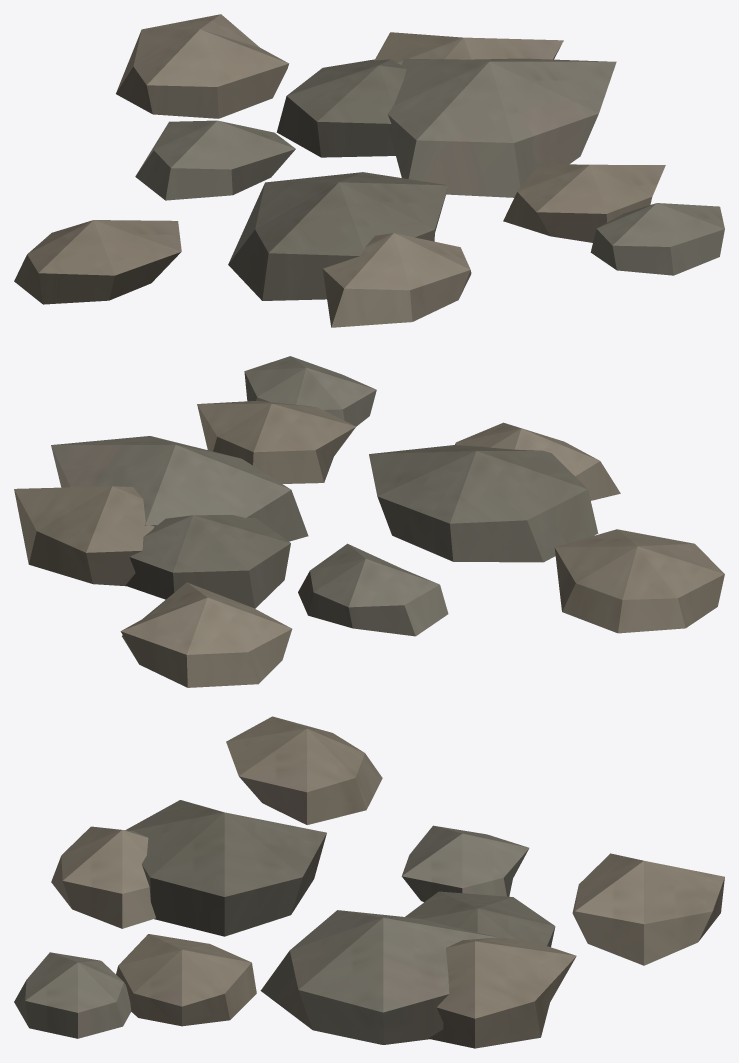
File: pebbles_01.glb
3 renders of one model, top to bottom at view 1: azimuth 30°, elevation 25°; view 2: azimuth 150°, elevation 25°; view 3: azimuth 270°, elevation 25°, orthographic. The views are drawn at different scales.
Parts seen in each view (by area): view 1: pebbles_01; view 2: pebbles_01; view 3: pebbles_01.
Boxes of the visible parts, x1=… form: pebbles_01: x1=14, y1=14, x2=724, y2=327; pebbles_01: x1=14, y1=356, x2=724, y2=687; pebbles_01: x1=14, y1=716, x2=724, y2=1048.
Bounding box in the file's own units: 0.746 × 0.1029 × 0.7148.
Materials: 4 (4 with a texture image).
